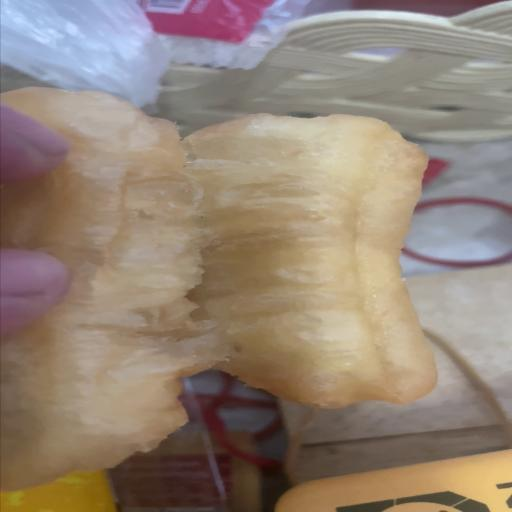street_golden_defect: (0, 111, 439, 496)
street_golden_good: (272, 449, 512, 512)
